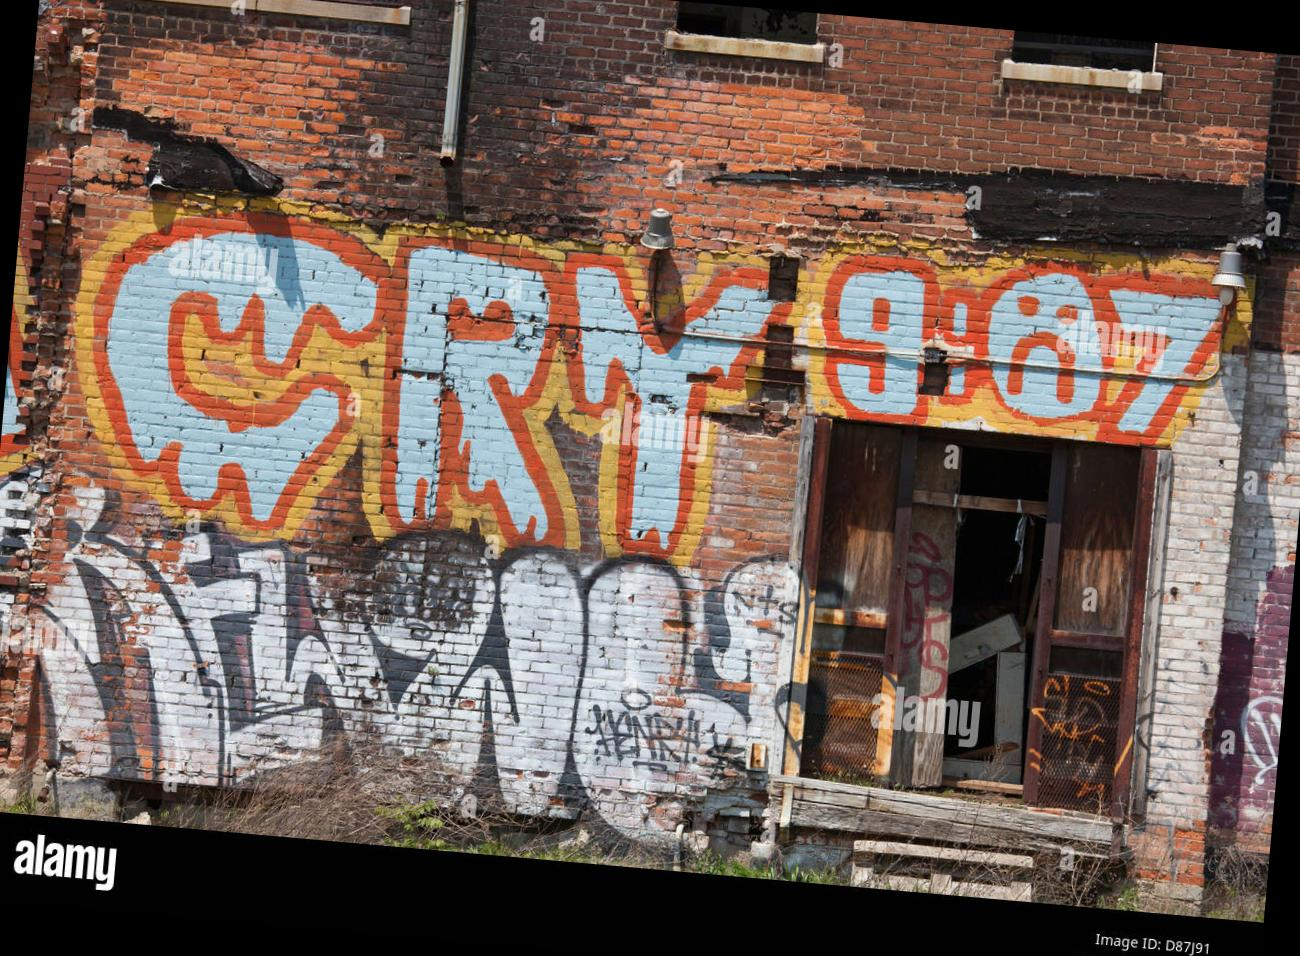graffiti: (0, 467, 813, 863), (53, 169, 826, 579), (800, 248, 1231, 442), (1181, 536, 1297, 834), (0, 192, 66, 460), (891, 512, 962, 704), (1033, 661, 1118, 798)
